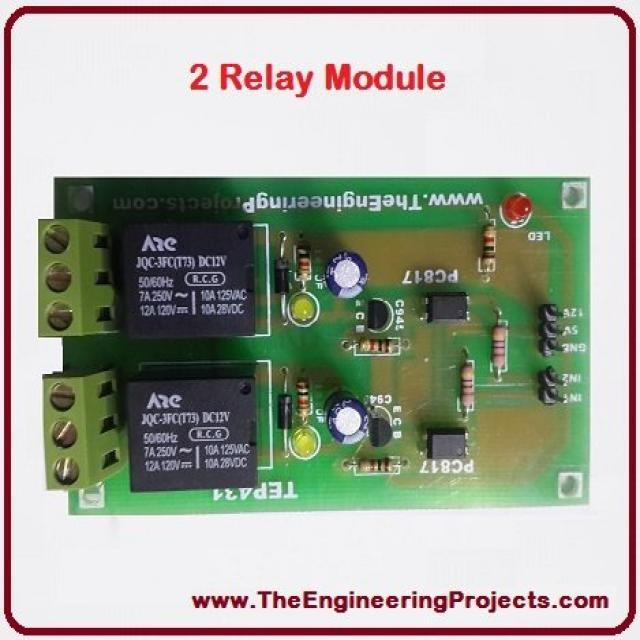pcb: (37, 173, 592, 514), (124, 360, 258, 493), (41, 363, 125, 491), (37, 216, 120, 336)
